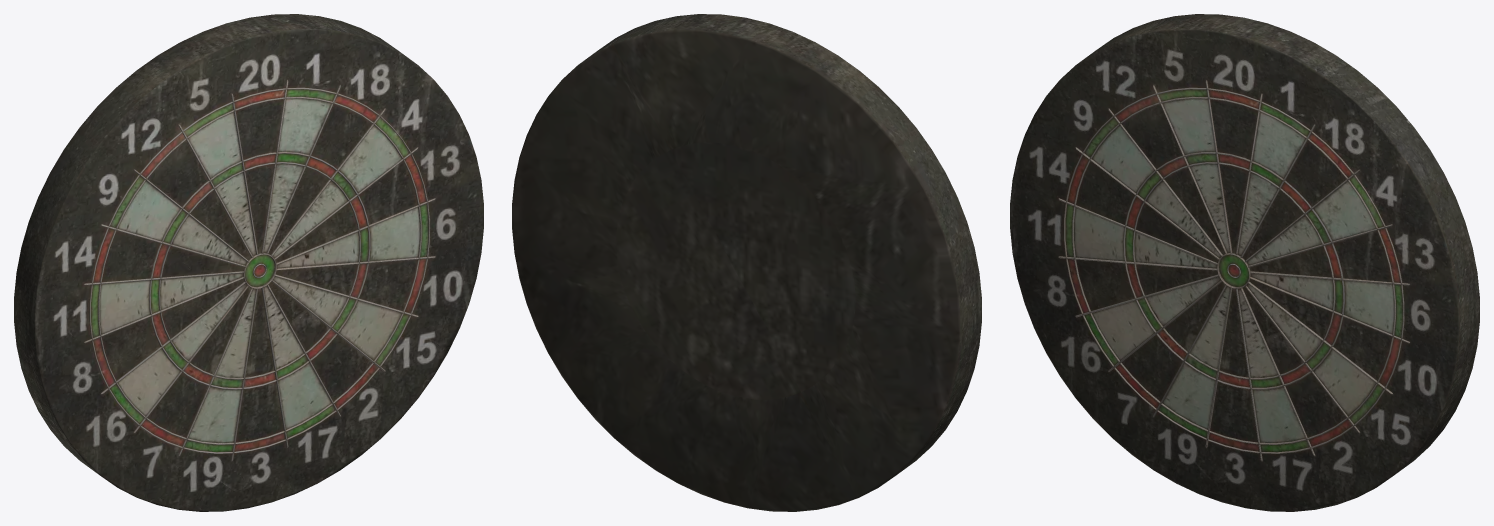
File: dartboard.glb
The picture shows the model from 3 angles, left to right: view 1: azimuth 30°, elevation 25°; view 2: azimuth 150°, elevation 25°; view 3: azimuth 330°, elevation 25°; orthographic projection.
Visible parts, largest first — view 1: dartboard; view 2: dartboard; view 3: dartboard.
Part boxes in pixels (x1,y1,x2,y2): dartboard: (14,14,483,511); dartboard: (512,14,981,511); dartboard: (1010,14,1479,511).
Size of the model in its own units: 0.4507 by 0.4507 by 0.0398.
1 material, 1 textured.
